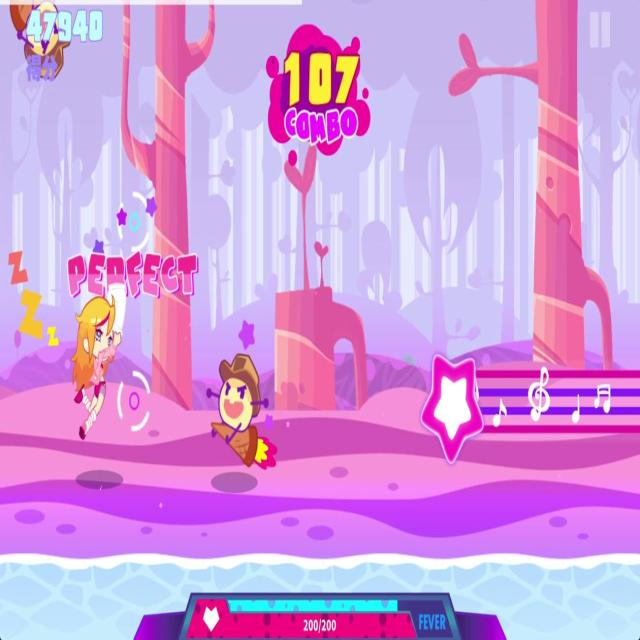hold: (418, 348, 640, 470)
qiu: (204, 350, 279, 476), (8, 0, 73, 84)
